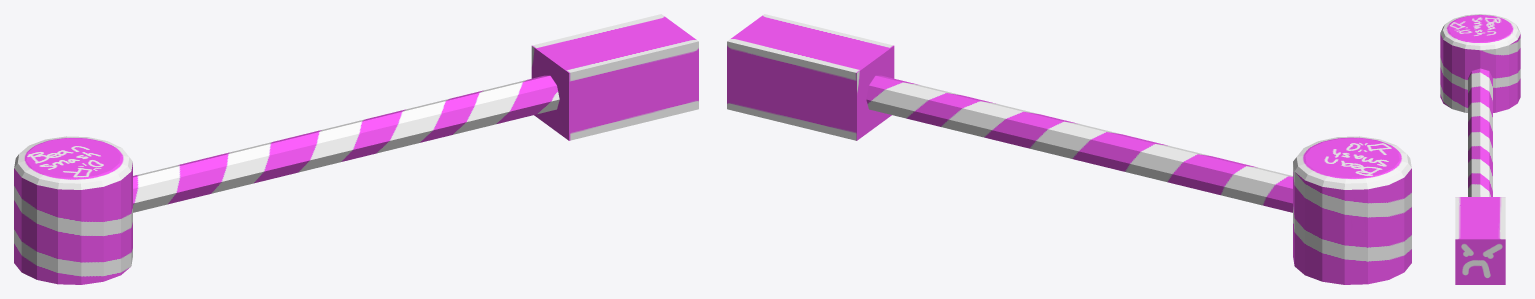
The model's file is Spinny.fbx.
3 views of the same model, side by side, from view 1: azimuth 30°, elevation 25°; view 2: azimuth 150°, elevation 25°; view 3: azimuth 270°, elevation 25° (orthographic). The views are drawn at different scales.
Visible parts, largest first — view 1: Spinny Base; view 2: Spinny Base; view 3: Spinny Base.
Boxes of the visible parts, bbox=[...] form: Spinny Base: bbox=[14, 14, 698, 284]; Spinny Base: bbox=[727, 14, 1411, 284]; Spinny Base: bbox=[1440, 14, 1520, 284].
Bounding box in the file's own units: 5.07 × 0.75 × 0.8.
